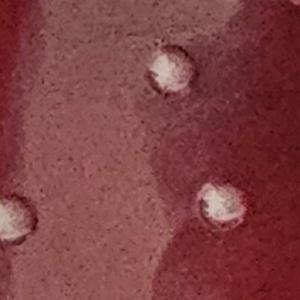colony: (140, 43, 203, 102), (191, 179, 252, 236), (0, 188, 45, 250)
